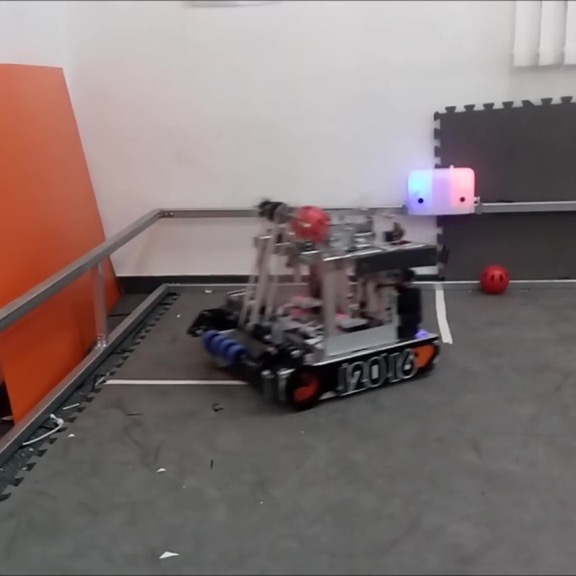ball: (287, 204, 331, 242), (479, 264, 511, 296)
robot: (185, 197, 445, 414)
